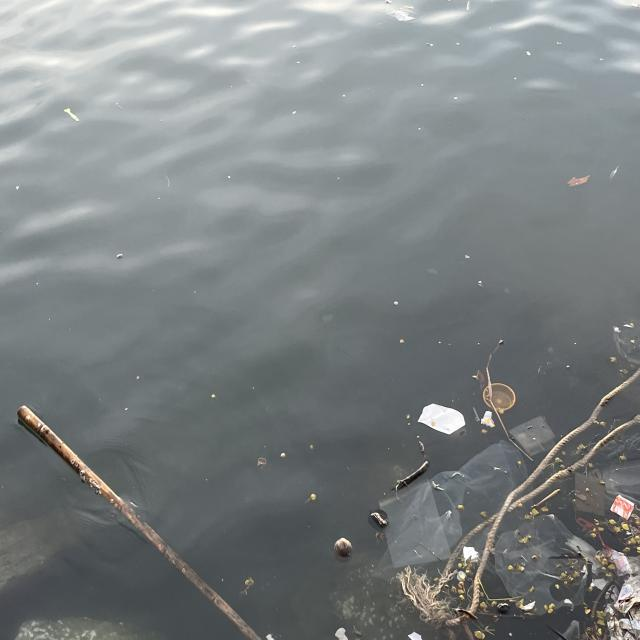foam: (418, 403, 466, 435), (464, 546, 479, 562), (334, 627, 349, 640), (408, 631, 422, 640)
plastic bottle: (497, 516, 585, 620), (434, 438, 534, 506), (378, 479, 450, 565), (508, 418, 555, 454), (574, 472, 606, 516)
unknow: (396, 566, 484, 628), (598, 544, 640, 640), (484, 383, 516, 412), (610, 494, 635, 520)
